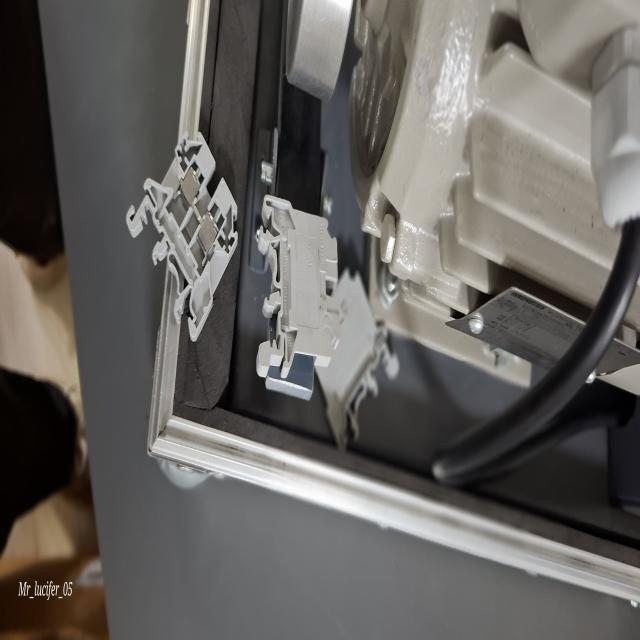Inverted: (256, 190, 341, 384), (314, 266, 399, 454)
Pass: (126, 126, 240, 344)
